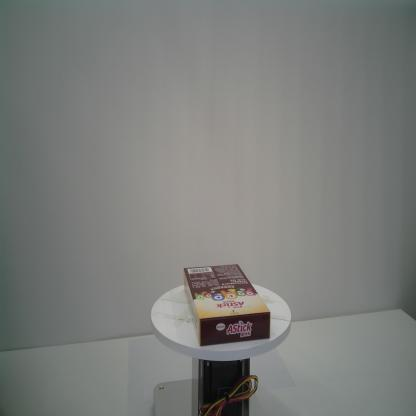Dessert: (182, 263, 272, 348)
